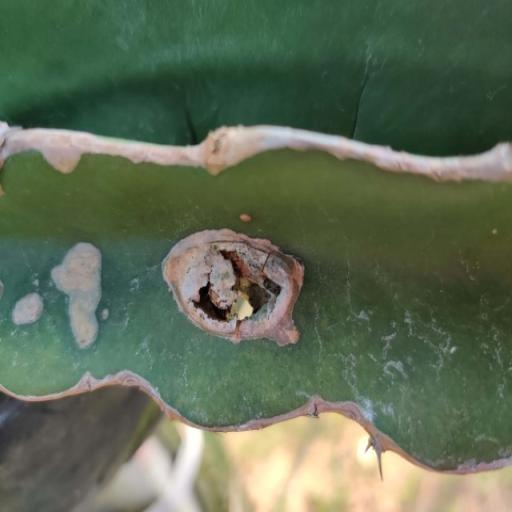stemcanker: (482, 217, 508, 251), (233, 206, 257, 232), (98, 304, 118, 330), (28, 270, 46, 293), (448, 341, 458, 358)
